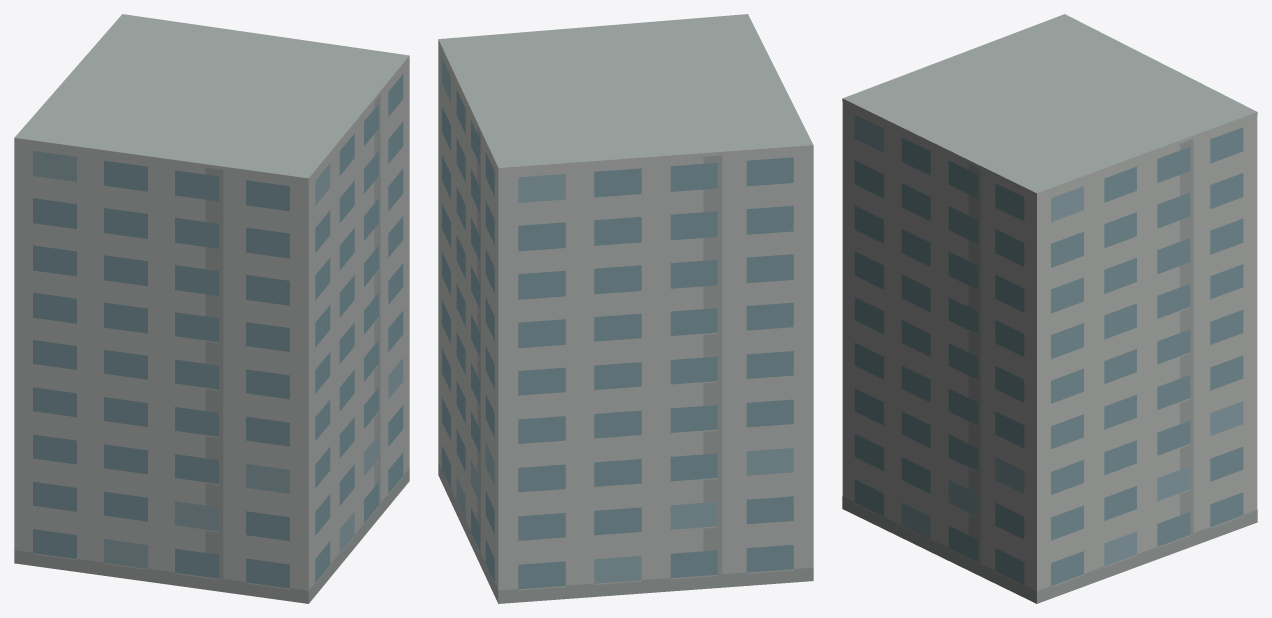
Rendered from residential-1da85e8d-3bd2-49fc-9fa4-59b29ec58e36.glb.
3 renders of one model, left to right at view 1: azimuth 30°, elevation 25°; view 2: azimuth 150°, elevation 25°; view 3: azimuth 270°, elevation 25°, orthographic. The views are drawn at different scales.
Parts seen in each view (by area): view 1: residential-1da85e8d-3bd2-49fc-9fa4-59b29ec58e36.tmp; view 2: residential-1da85e8d-3bd2-49fc-9fa4-59b29ec58e36.tmp; view 3: residential-1da85e8d-3bd2-49fc-9fa4-59b29ec58e36.tmp.
Part boxes in pixels (box(x1,y1,x2,y2)): residential-1da85e8d-3bd2-49fc-9fa4-59b29ec58e36.tmp: box(14, 14, 409, 603); residential-1da85e8d-3bd2-49fc-9fa4-59b29ec58e36.tmp: box(438, 14, 813, 603); residential-1da85e8d-3bd2-49fc-9fa4-59b29ec58e36.tmp: box(842, 14, 1257, 603).
Bounding box in the file's own units: 28.11 × 30 × 27.48.
